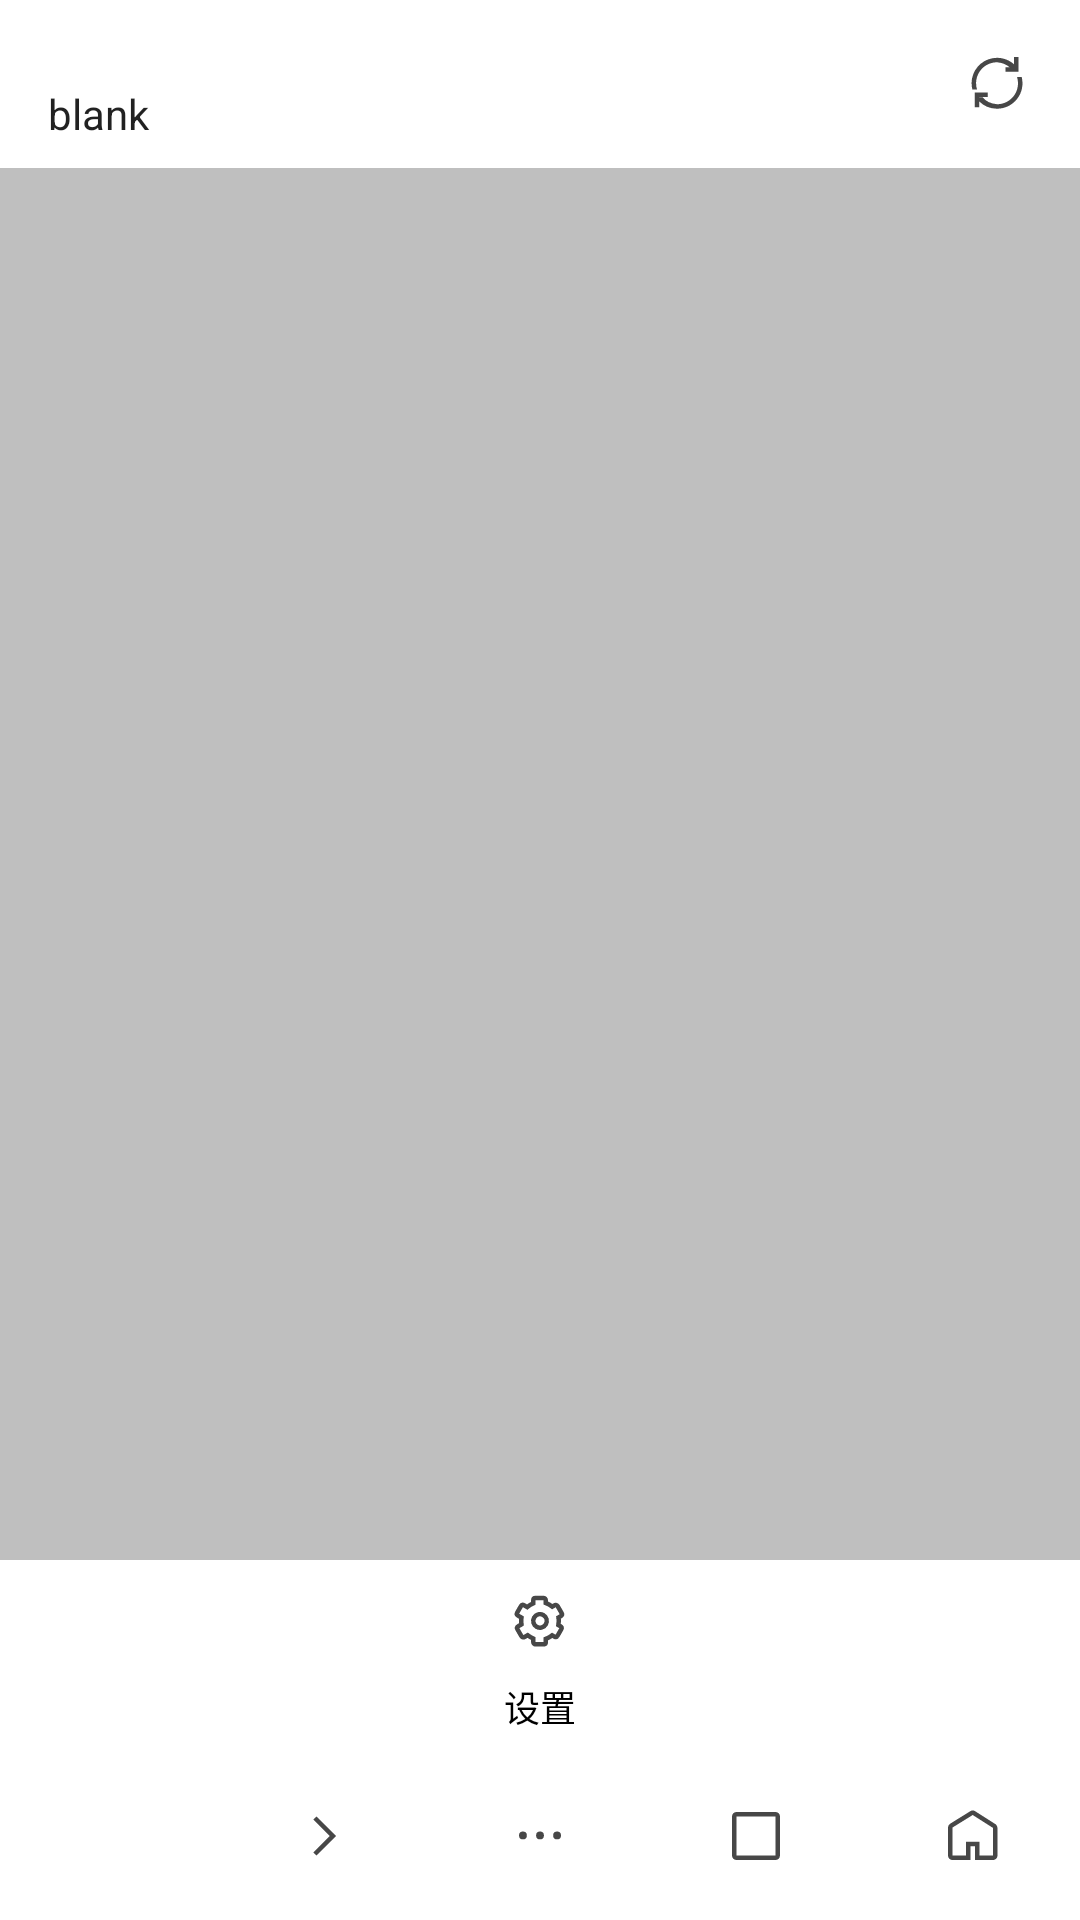

Where to tap for icons on this 1080x1920 app screen, as (x=x, y=y):
arrow right: (x=324, y=1836)
ellipsis: (x=540, y=1835)
home: (x=973, y=1835)
refresh: (x=997, y=83)
square: (x=756, y=1836)
